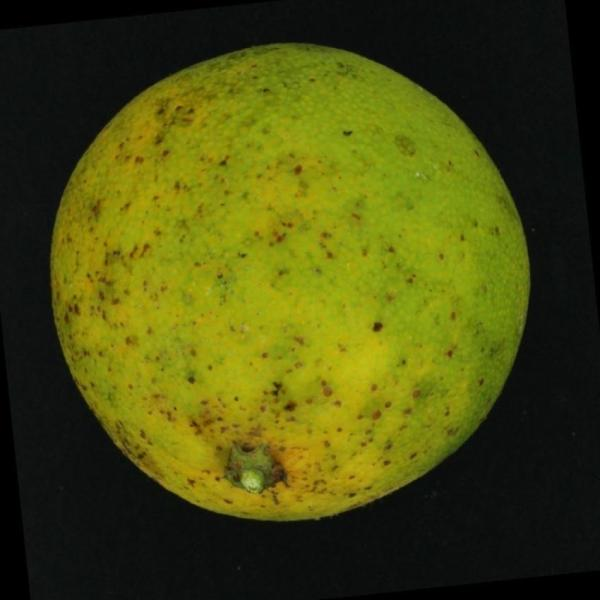Greening: (39, 31, 549, 530)
